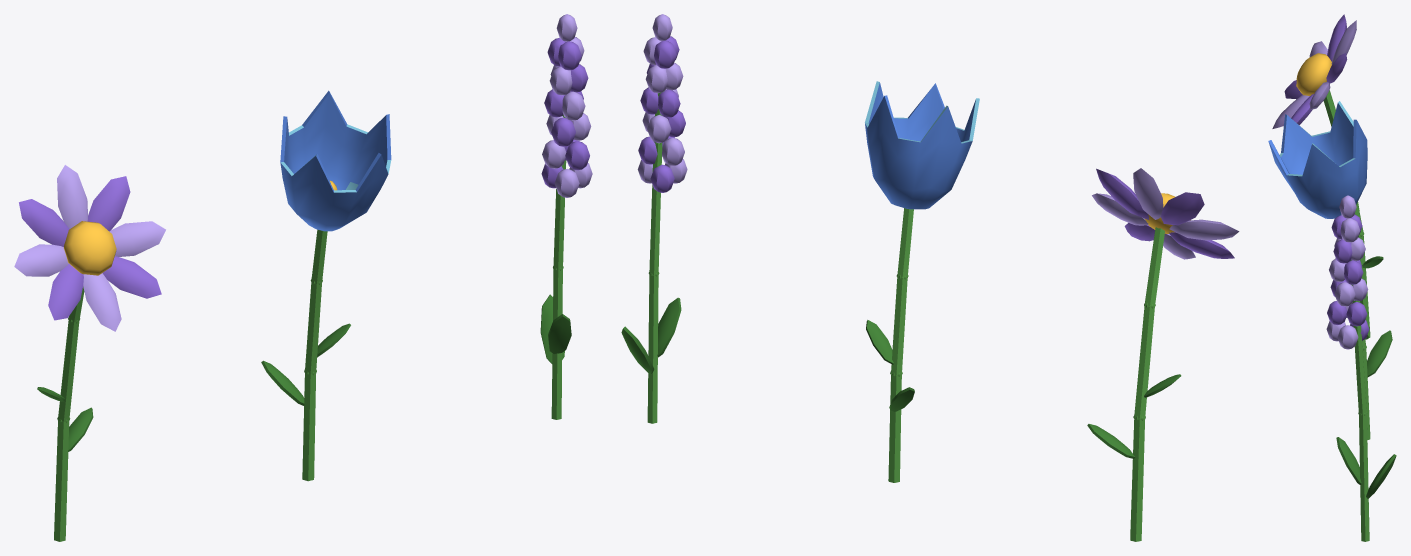
Rendered from flowers.fbx.
3 renders of one model, left to right at view 1: azimuth 30°, elevation 25°; view 2: azimuth 150°, elevation 25°; view 3: azimuth 270°, elevation 25°, orthographic. The views are drawn at different scales.
Parts seen in each view (by area): view 1: Flower_Purple, Flower_Blue, Flower_Lavender; view 2: Flower_Blue, Flower_Purple, Flower_Lavender; view 3: Flower_Blue, Flower_Lavender, Flower_Purple.
Boxes of the visible parts, x1=… form: Flower_Purple: x1=14, y1=165, x2=165, y2=541; Flower_Blue: x1=261, y1=90, x2=391, y2=481; Flower_Lavender: x1=540, y1=14, x2=592, y2=419; Flower_Blue: x1=865, y1=81, x2=979, y2=482; Flower_Purple: x1=1087, y1=168, x2=1239, y2=541; Flower_Lavender: x1=621, y1=14, x2=687, y2=423; Flower_Blue: x1=1268, y1=101, x2=1392, y2=439; Flower_Lavender: x1=1326, y1=195, x2=1396, y2=541; Flower_Purple: x1=1272, y1=14, x2=1383, y2=337.
Size of the model in its own units: 0.2636 by 0.1741 by 0.0587.
Materials: 1 (1 with a texture image).
